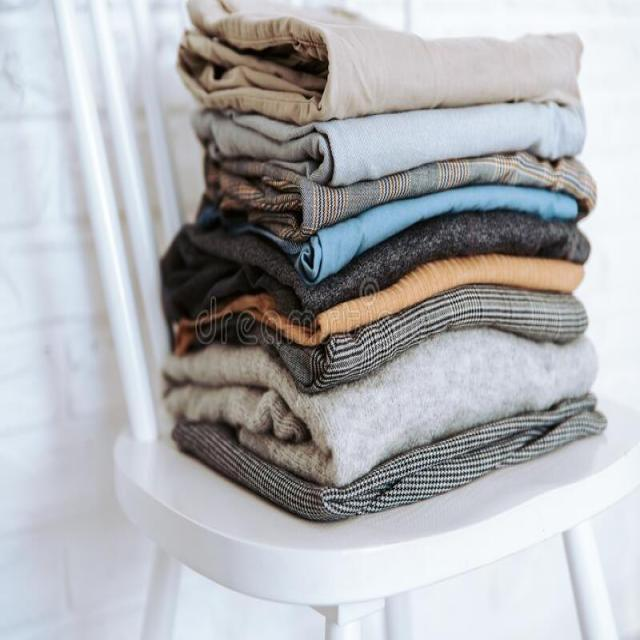clothes: (153, 14, 640, 552)
